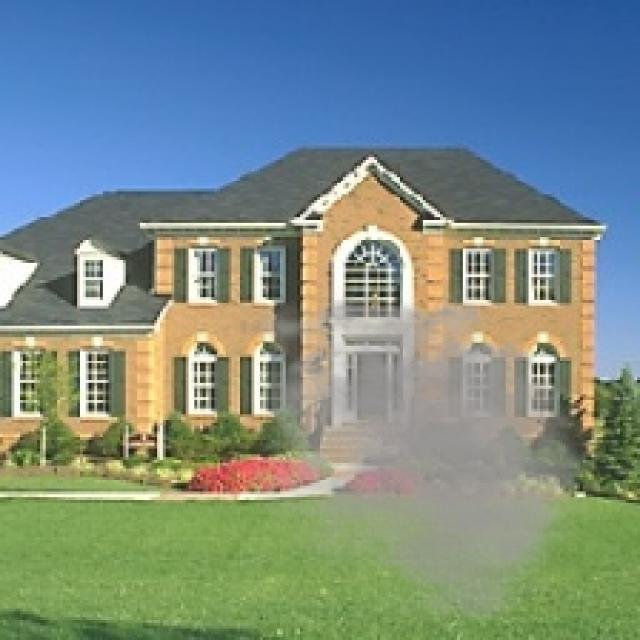Smoke: (231, 277, 606, 632)
